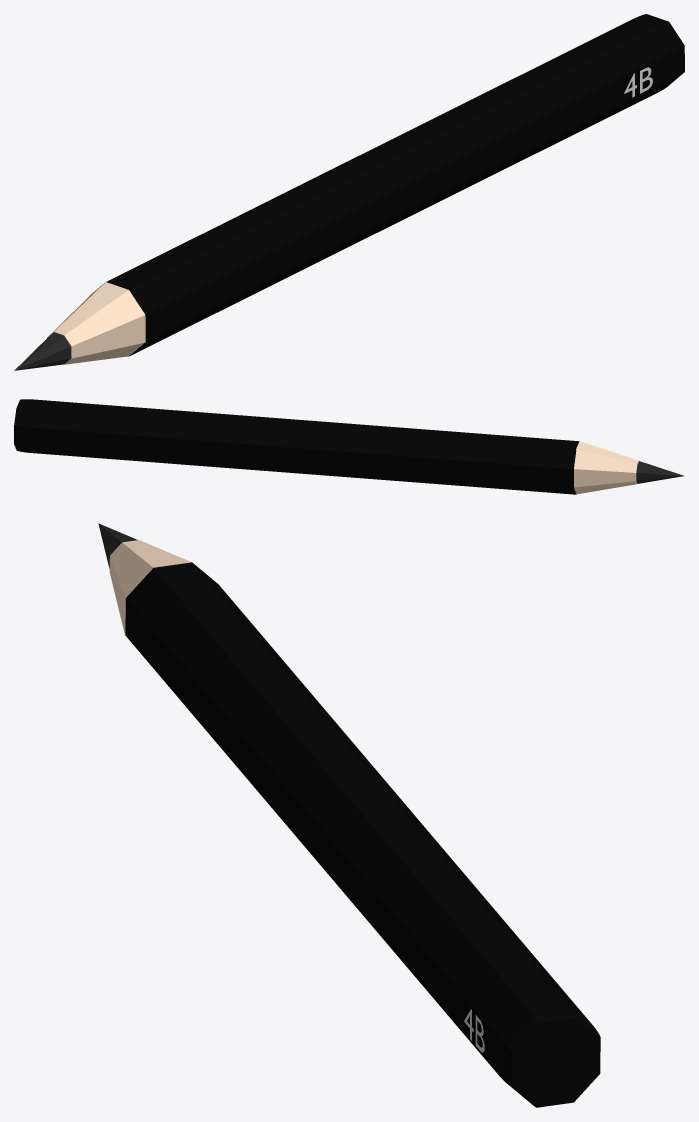
File: Pencil.glb
3 views of the same model, one above another, from view 1: azimuth 30°, elevation 25°; view 2: azimuth 150°, elevation 25°; view 3: azimuth 270°, elevation 25° (orthographic). The views are drawn at different scales.
Parts seen in each view (by area): view 1: pencil; view 2: pencil; view 3: pencil.
Boxes of the visible parts, x1,y1,x2,y2 form: pencil: (14, 14, 684, 370); pencil: (14, 399, 683, 494); pencil: (98, 523, 600, 1107).
Size of the model in its own units: 1.08 by 0.0836 by 0.4202.
